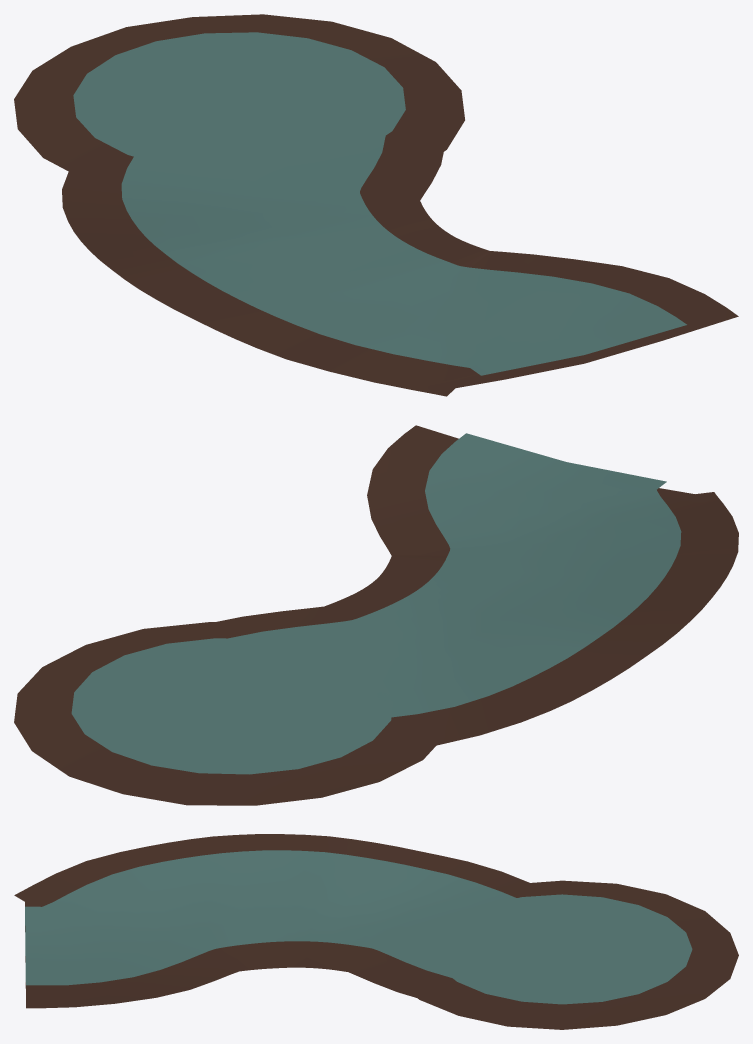
The model's file is MODULE_RIVER_SPRING.fbx.
3 views of the same model, one above another, from view 1: azimuth 30°, elevation 25°; view 2: azimuth 150°, elevation 25°; view 3: azimuth 270°, elevation 25° (orthographic). The views are drawn at different scales.
Parts seen in each view (by area): view 1: MODULE_RIVER_SPRING_DECOR__export; view 2: MODULE_RIVER_SPRING_DECOR__export; view 3: MODULE_RIVER_SPRING_DECOR__export.
Boxes of the visible parts, bbox=[...] form: MODULE_RIVER_SPRING_DECOR__export: bbox=[14, 14, 738, 396]; MODULE_RIVER_SPRING_DECOR__export: bbox=[14, 425, 738, 805]; MODULE_RIVER_SPRING_DECOR__export: bbox=[14, 834, 738, 1029].
Size of what is drawn, in the model's own units: 22.99 by 1.19 by 38.98.
